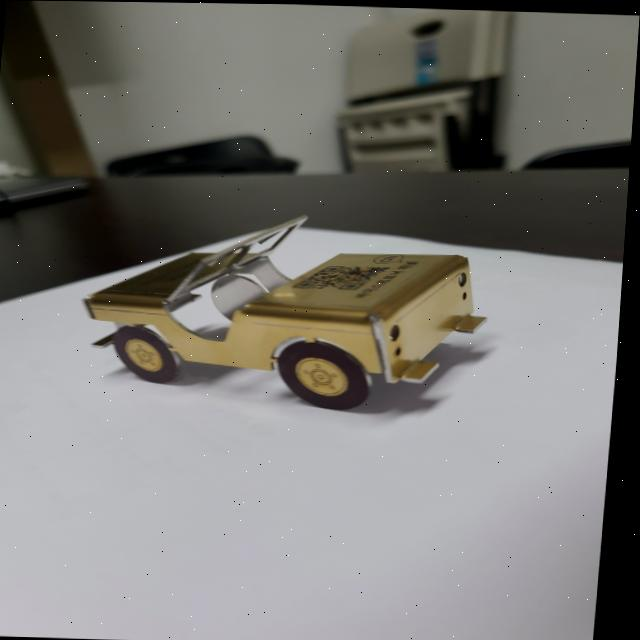tire: (279, 338, 380, 409), (115, 325, 187, 383)
